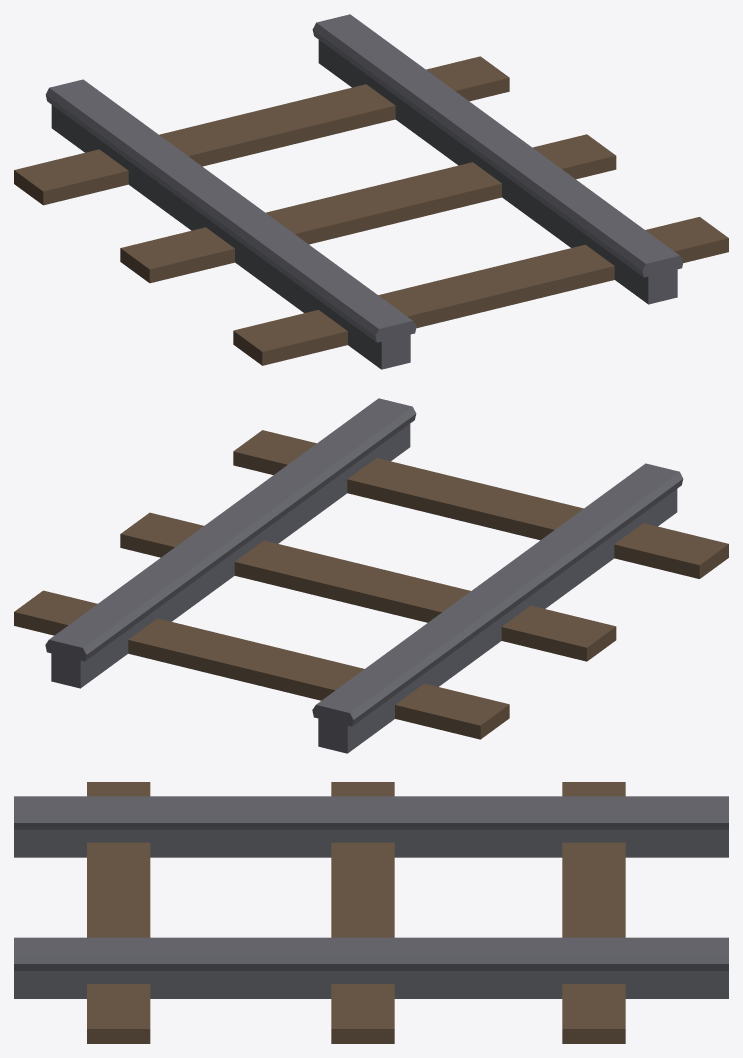
Rendered from rail.fbx.
3 renders of one model, top to bottom at view 1: azimuth 30°, elevation 25°; view 2: azimuth 150°, elevation 25°; view 3: azimuth 270°, elevation 25°, orthographic. The views are drawn at different scales.
Visible parts, largest first — view 1: Rail.001; view 2: Rail.001; view 3: Rail.001.
Part boxes in pixels (<box>): Rail.001: <box>14,14,728,369</box>; Rail.001: <box>14,398,728,753</box>; Rail.001: <box>14,782,728,1043</box>.
Size of the model in its own units: 699 by 59.03 by 856.
